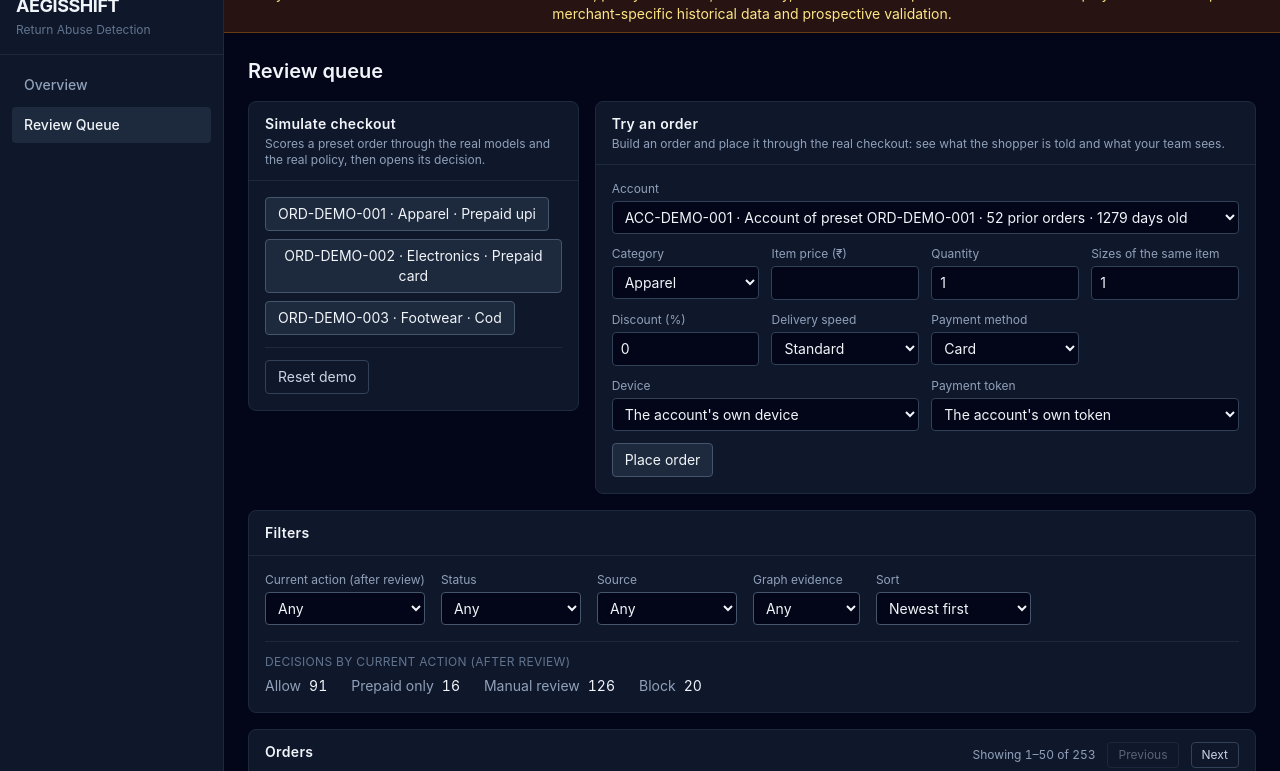
the result shows the shopper and the team different things › gives the team the badge, two separate probabilities, the explanation and a link
The width and height of the screenshot is (1280, 771).
Expected: the form with test id "try-form" is shown, [612,181,1239,477]
Select "ACC-DEMO-001 · Account of preset ORD-DEMO-001 · 52 prior orders · 1279 days old" in the dropdown labelled "Account": (925, 218) [612,201,1239,234]
In the number field labelled "Item price (₹)": (845, 283) [772,266,919,300], type "1499"
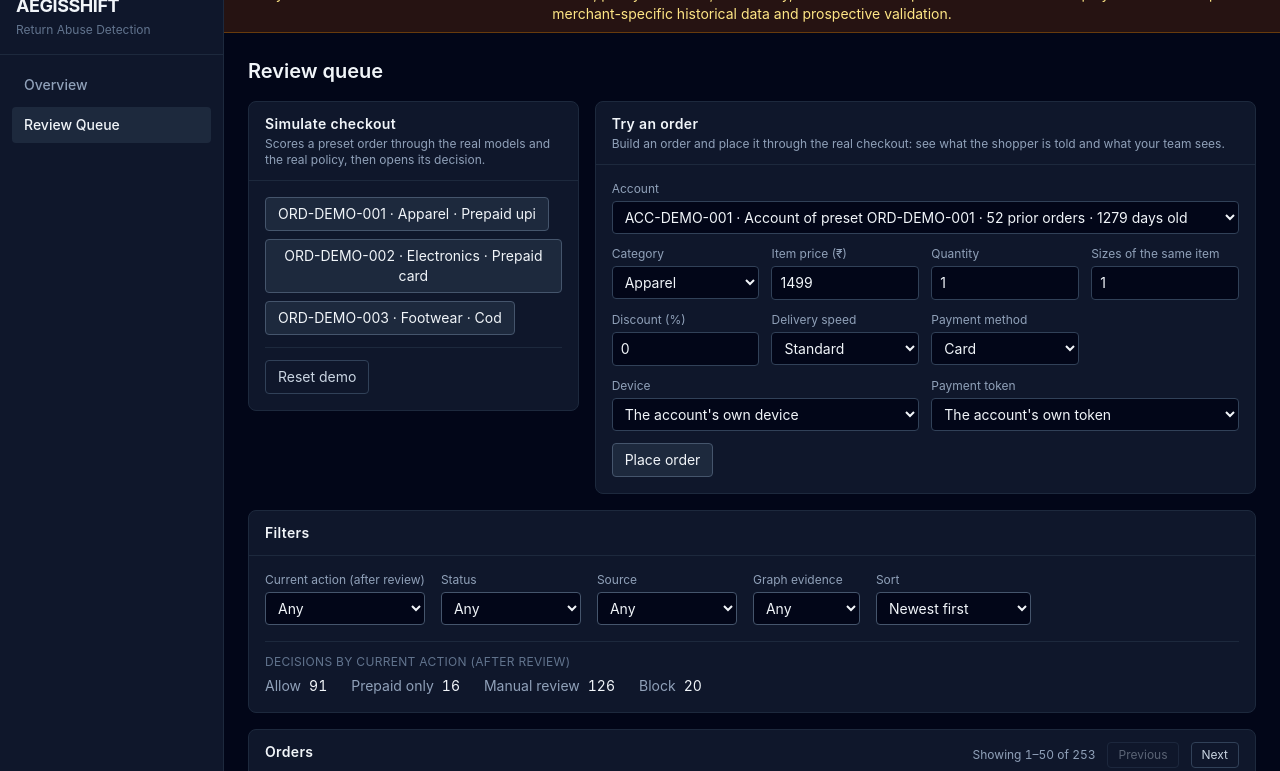
Click the button with test id "try-submit": (663, 460) [612,443,713,477]
(page scrolled)
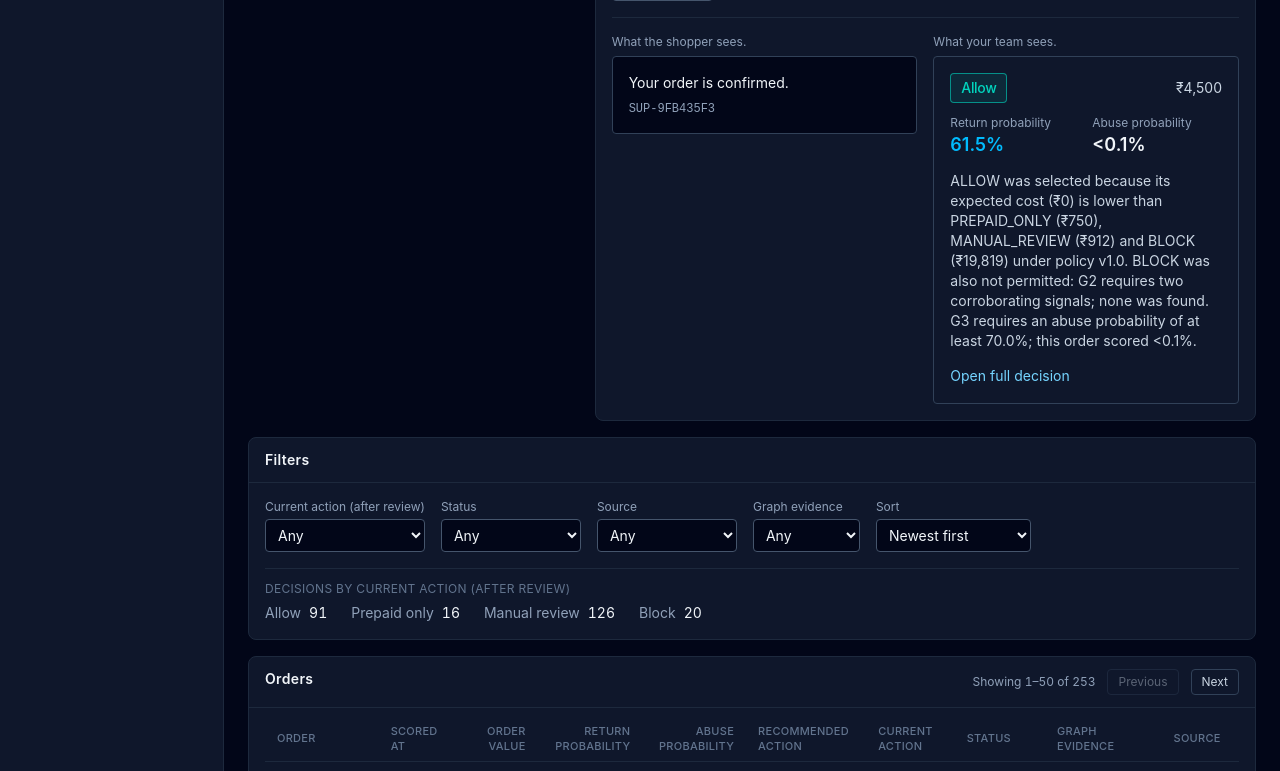
Result: the element with test id "try-result" is shown at [612,17,1239,404]
Result: the text "What your team sees." is shown at [933,34,1057,49]
Result: the text "Allow" in the row of "Your order is confirmed." is shown at [950,73,1007,103]
